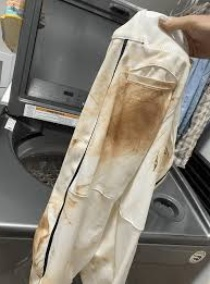earth: (111, 99, 155, 140), (41, 217, 49, 229)
